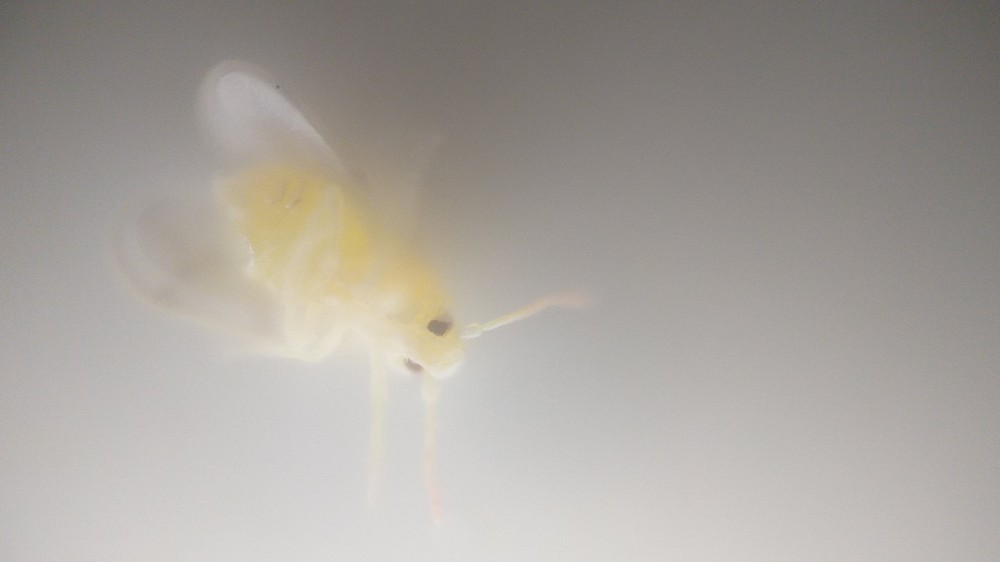Mosca Blanca: (101, 54, 613, 549)
